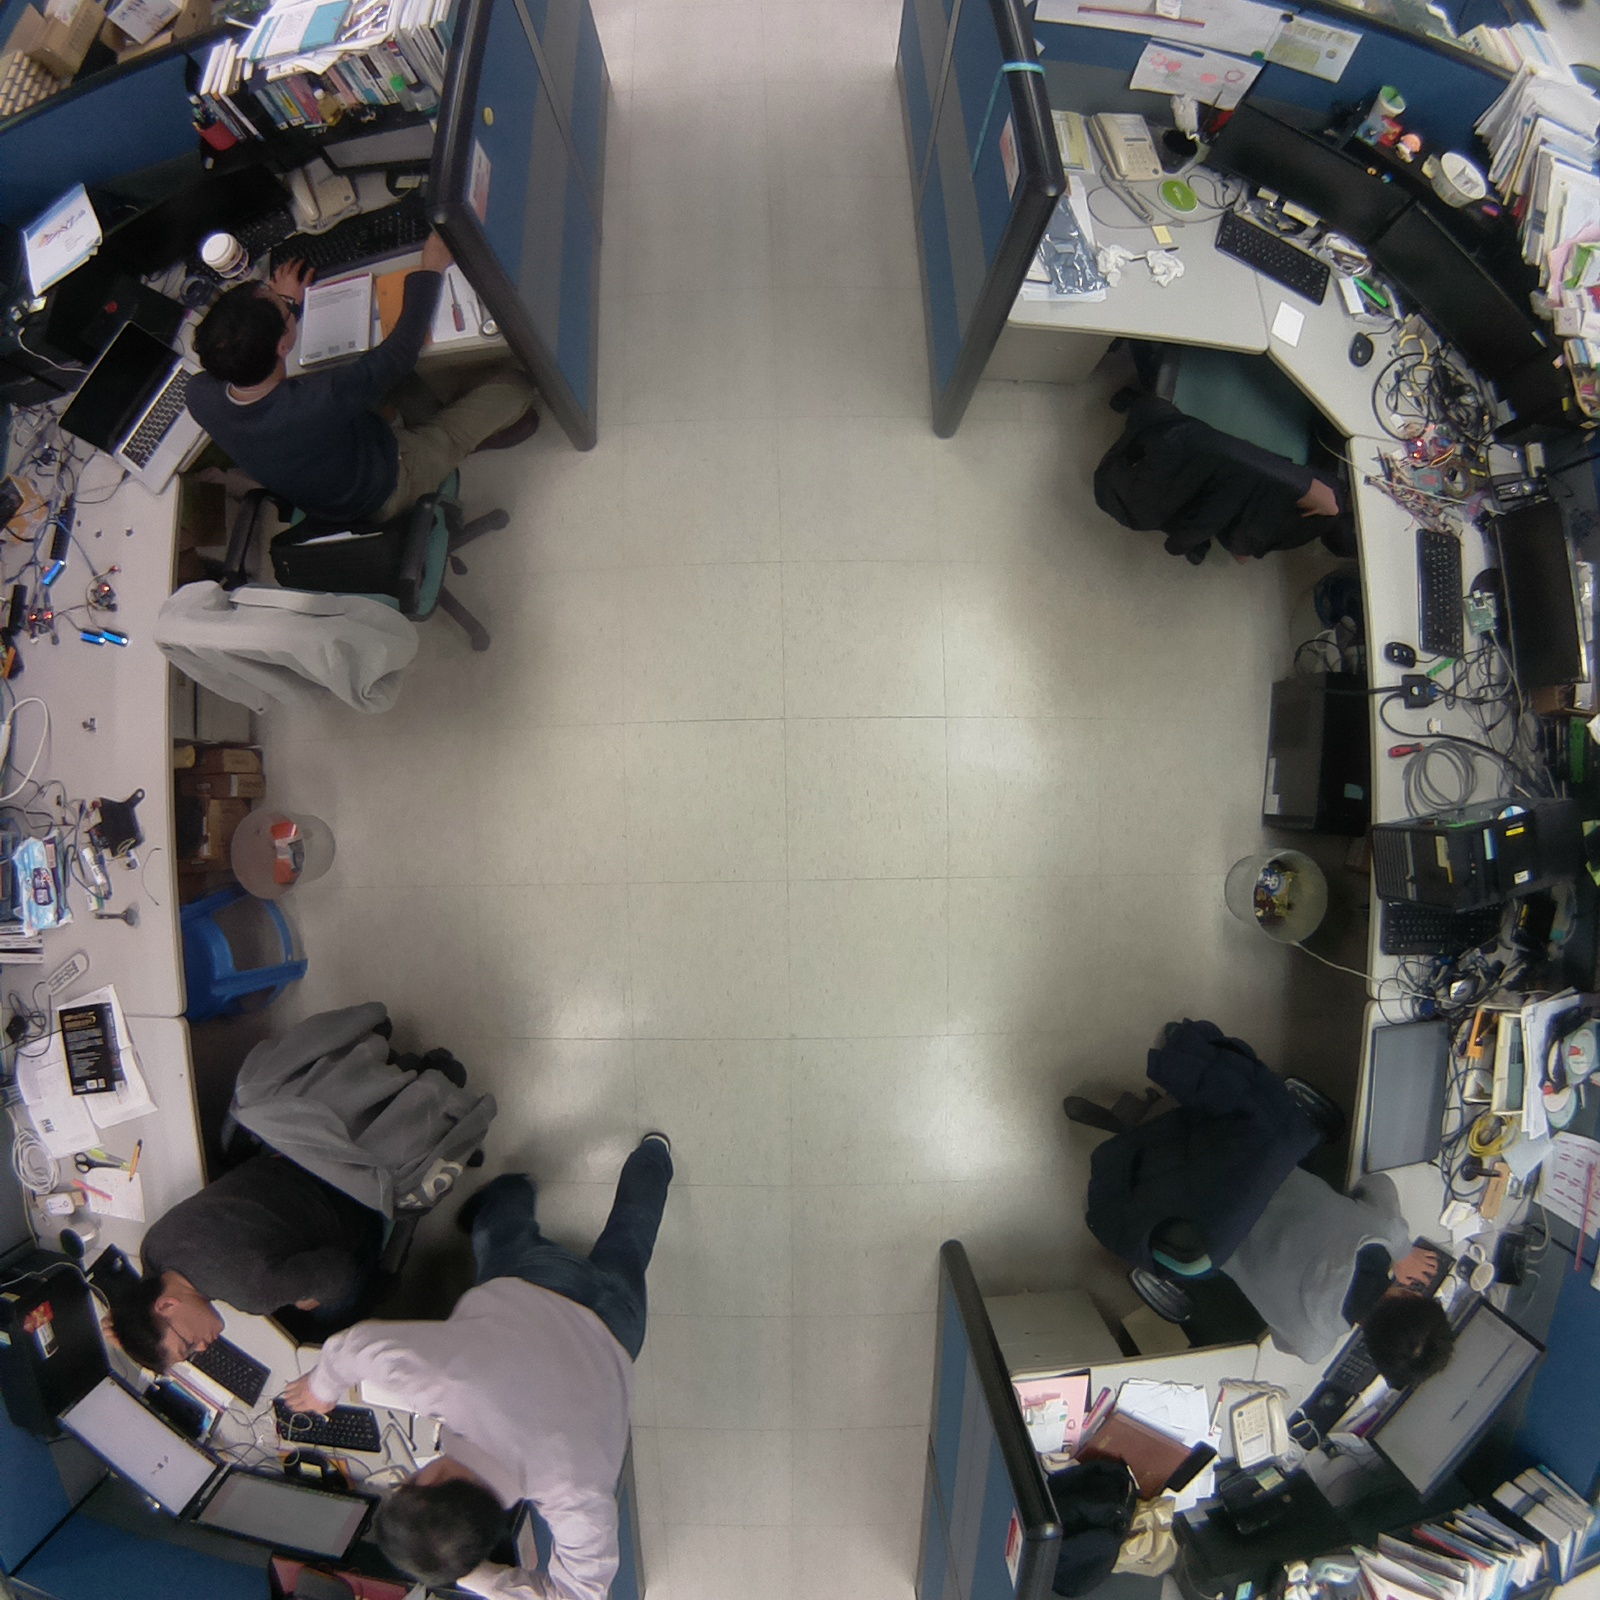chair: (1083, 314, 1365, 575)
head: (358, 1470, 512, 1597), (103, 1267, 224, 1378), (1349, 1284, 1460, 1395), (191, 282, 308, 382)
sitting: (127, 249, 550, 734), (1050, 1004, 1470, 1400), (99, 993, 512, 1383)
standing: (344, 1117, 686, 1600)
